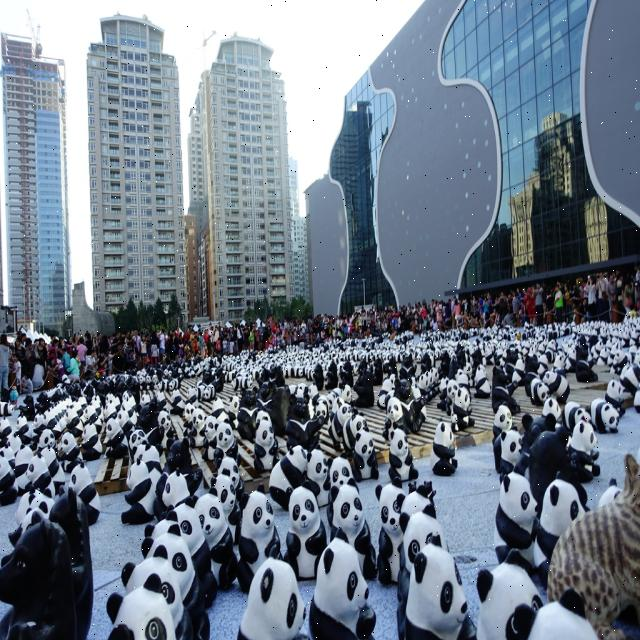panda: (0, 312, 640, 640)
